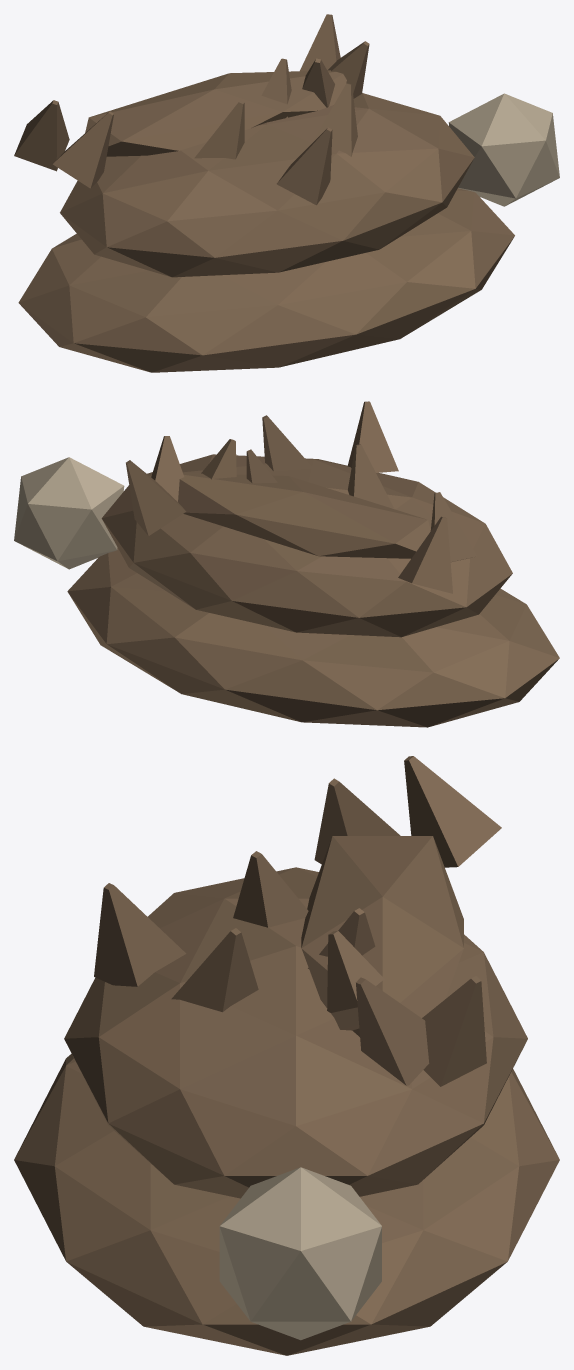
File: ing_hare_pelt.glb
The picture shows the model from 3 angles, top to bottom: view 1: azimuth 30°, elevation 25°; view 2: azimuth 150°, elevation 25°; view 3: azimuth 270°, elevation 25°; orthographic projection. The views are drawn at different scales.
Parts seen in each view (by area): view 1: ing_hare_pelt; view 2: ing_hare_pelt; view 3: ing_hare_pelt.
Part boxes in pixels (<box>): ing_hare_pelt: <box>14,14,559,372</box>; ing_hare_pelt: <box>14,401,559,727</box>; ing_hare_pelt: <box>14,756,559,1355</box>.
Size of the model in its own units: 0.3303 by 0.1509 by 0.2.
